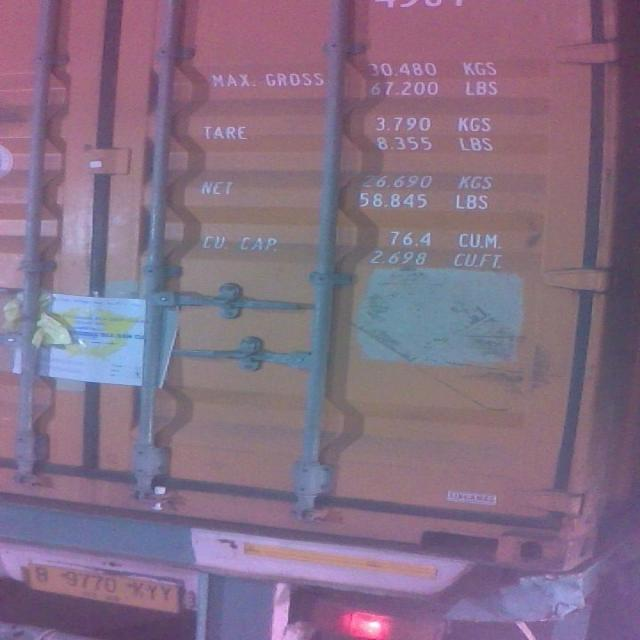seal: (145, 482, 168, 514)
